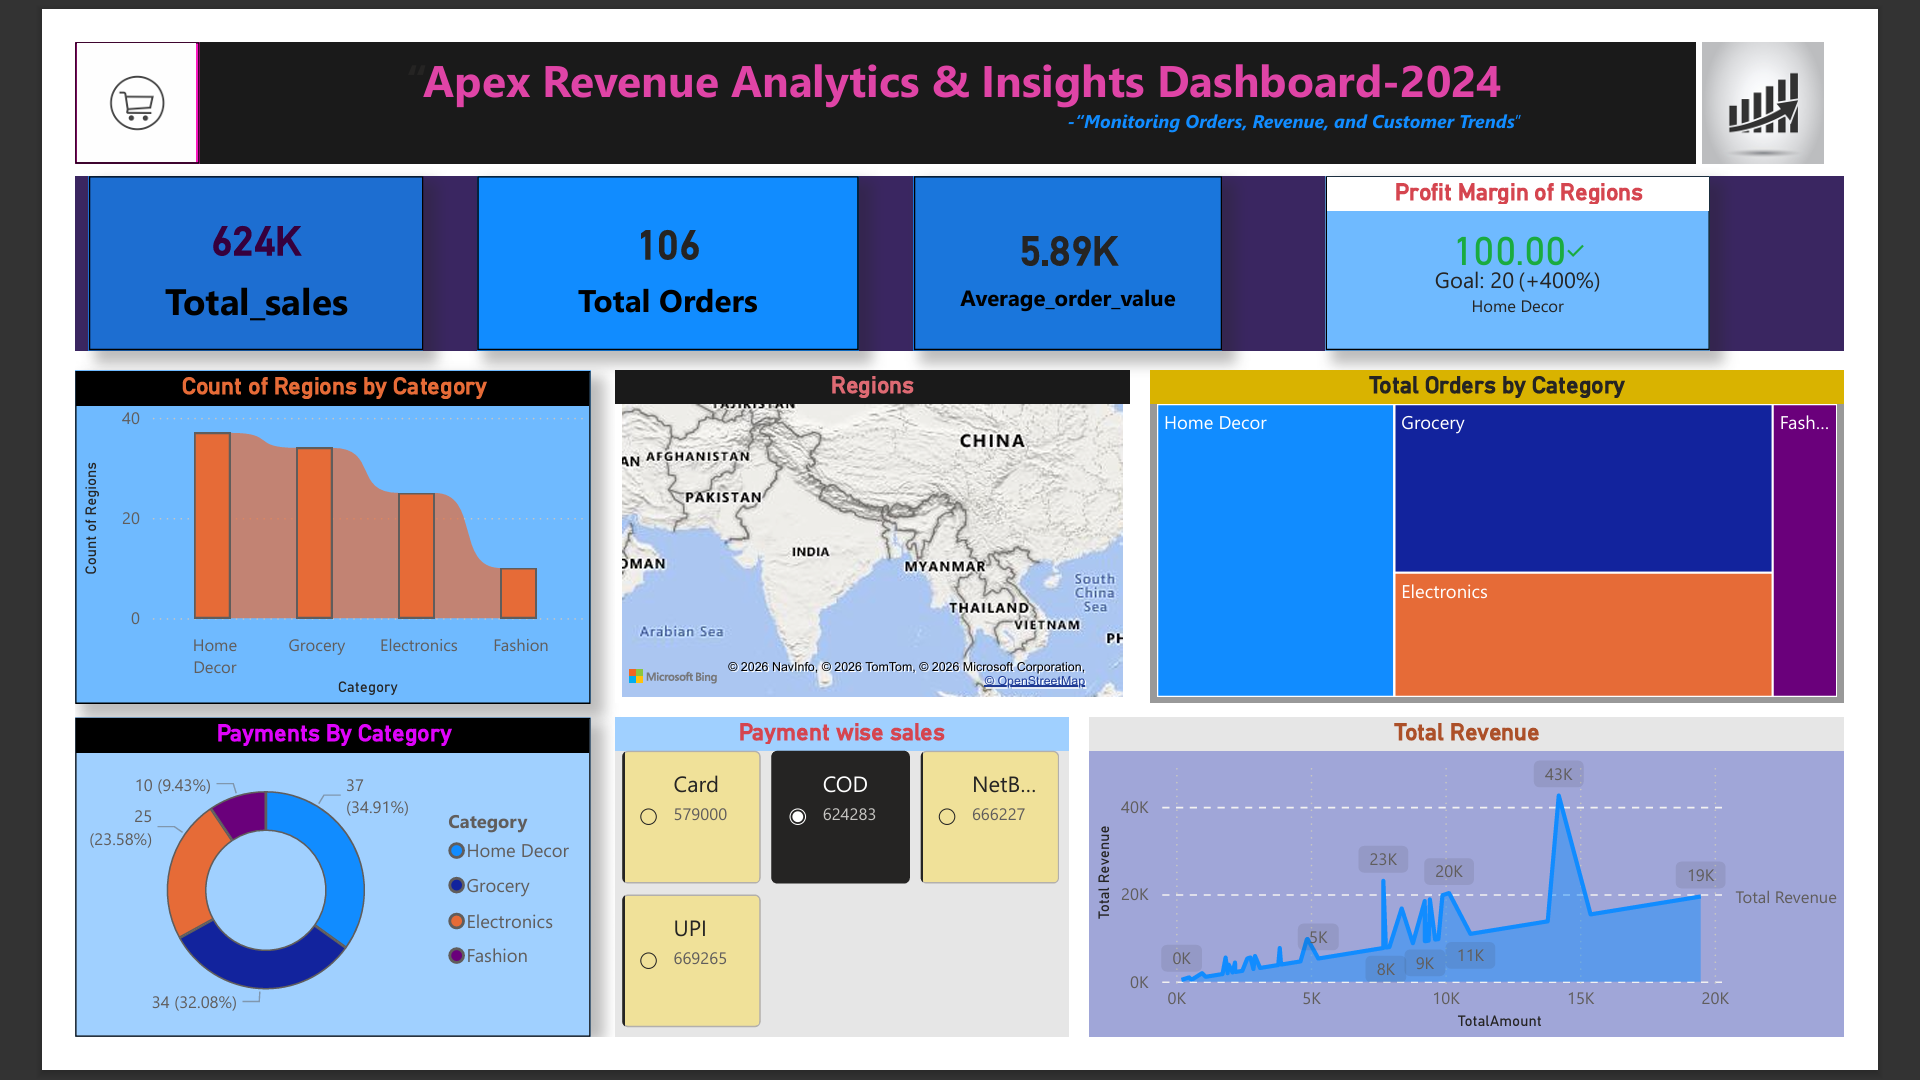

This screenshot's page, from the dashboard's own definition file:
{"tool":"powerbi","page":{"name":"Page 1","canvas":[1280,720],"ordinal":0},"visuals":[{"type":"textbox","box":[90.5,0,1082.2,88],"z":0},{"type":"textbox","box":[0,96.6,1280.3,126],"z":1000},{"type":"card","fields":{"Values":["Orders_2024_sales.Total_sales"]},"box":[10,97,242,126],"z":2000},{"type":"card","fields":{"Values":["Orders_2024_sales.Total Orders"]},"box":[291,97,276,126],"z":3000},{"type":"card","fields":{"Values":["Orders_2024_sales.Average_order_value"]},"box":[607,97,223,126],"z":4000},{"type":"kpi","title":"Profit Margin of  Regions","fields":{"Indicator":["Orders_2024_sales.Profit Margin %"],"Goal":["Orders_2024_sales.Target PM"],"TrendLine":["Orders_2024_sales.Category"]},"box":[905,97,278,126],"z":5000},{"type":"ribbonChart","fields":{"Y":["CountNonNull(Orders_2024_sales.Regions)"],"Category":["Orders_2024_sales.Category"]},"box":[0,238.5,373,240.9],"z":6000},{"type":"donutChart","title":"Payments By Category","fields":{"Category":["Orders_2024_sales.Category"],"Y":["CountNonNull(Orders_2024_sales.PaymentMethod)"]},"box":[0,489.1,373,231.1],"z":7000},{"type":"map","fields":{"Series":["Orders_2024_sales.Regions"]},"box":[391,238,372,241],"z":8000},{"type":"lineChart","title":"Total Revenue","fields":{"Y":["Orders_2024_sales.Total Revenue"],"Category":["Orders_2024_sales.TotalAmount"]},"box":[733.7,489.1,546.6,231.1],"z":9000},{"type":"treemap","fields":{"Values":["Orders_2024_sales.Total Orders"],"Group":["Orders_2024_sales.Category"]},"box":[777.7,238.5,502.6,240.9],"z":10000},{"type":"advancedSlicerVisual","title":"Payment wise sales ","fields":{"Values":["Orders_2024_sales.PaymentMethod"],"Label":["Orders_2024_sales.Total Revenue"]},"box":[391.3,489.1,327.7,231.1],"z":11000},{"type":"image","box":[0,0,90.5,88],"z":12000},{"type":"image","box":[1162.9,0,117.4,88],"z":13000}]}

Visuals, with their boxes in screenshot pixels (x1, y1, x2, y2), scaled from the page's 1280x720 canvas onto the 1920x1080 screenshot:
textbox: <bbox>136, 0, 1759, 132</bbox>
textbox: <bbox>0, 145, 1919, 334</bbox>
card - Orders_2024_sales.Total_sales: <bbox>15, 146, 378, 334</bbox>
card - Orders_2024_sales.Total Orders: <bbox>436, 146, 850, 334</bbox>
card - Orders_2024_sales.Average_order_value: <bbox>910, 146, 1245, 334</bbox>
"Profit Margin of  Regions" kpi: <bbox>1358, 146, 1774, 334</bbox>
ribbonChart - CountNonNull(Orders_2024_sales.Regions) x Orders_2024_sales.Category: <bbox>0, 358, 560, 719</bbox>
"Payments By Category" donutChart: <bbox>0, 734, 560, 1079</bbox>
map - Orders_2024_sales.Regions: <bbox>586, 357, 1144, 718</bbox>
"Total Revenue" lineChart: <bbox>1101, 734, 1919, 1079</bbox>
treemap - Orders_2024_sales.Total Orders x Orders_2024_sales.Category: <bbox>1167, 358, 1919, 719</bbox>
"Payment wise sales " advancedSlicerVisual: <bbox>587, 734, 1078, 1079</bbox>
image: <bbox>0, 0, 136, 132</bbox>
image: <bbox>1744, 0, 1919, 132</bbox>
